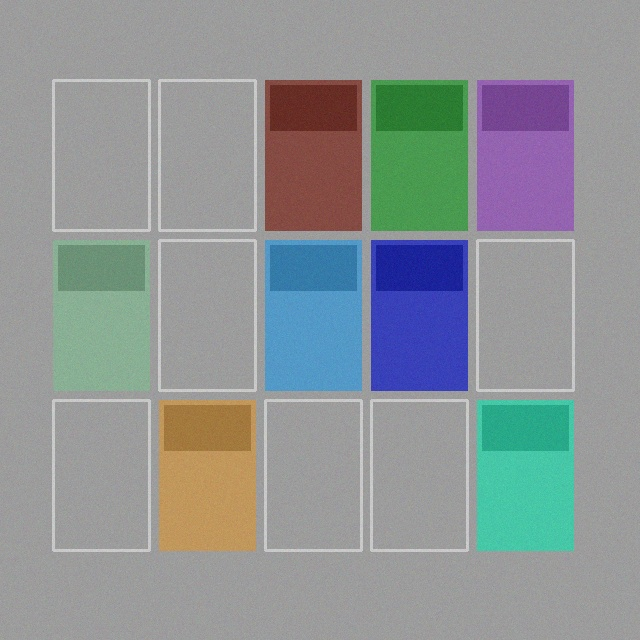space-empty: (53, 80, 149, 230), (159, 80, 255, 230), (159, 240, 255, 390), (477, 240, 573, 390), (53, 400, 149, 550), (265, 400, 361, 550), (371, 400, 467, 550)
space-occupied: (265, 80, 361, 230), (371, 80, 467, 230), (477, 80, 573, 230), (53, 240, 149, 390), (265, 240, 361, 390), (371, 240, 467, 390), (159, 400, 255, 550), (477, 400, 573, 550)
